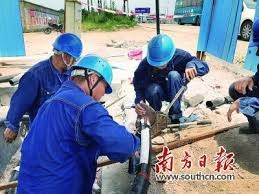blue: (71, 56, 114, 101), (49, 33, 82, 67), (146, 33, 174, 69)
